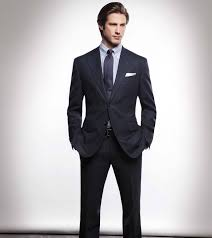F_M_suit jacket: (65, 46, 167, 156)
F_belt: (98, 127, 120, 140)
F_dress pants: (76, 151, 149, 238)
